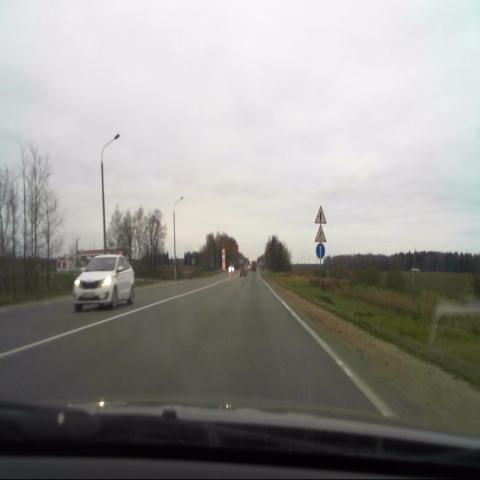2_3_3: (314, 205, 327, 224)
